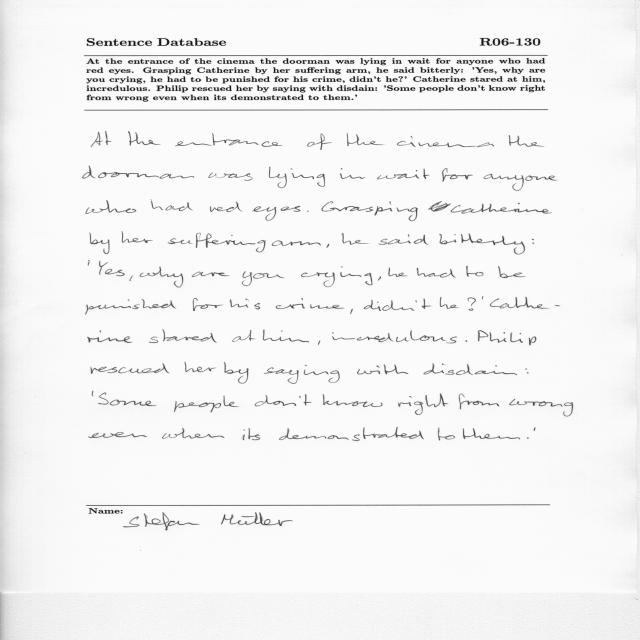word: (279, 427, 424, 441), (321, 202, 418, 222), (168, 233, 266, 252), (440, 234, 525, 255), (332, 331, 457, 344), (428, 201, 552, 214), (301, 267, 373, 288), (175, 133, 282, 147), (83, 166, 195, 179), (264, 365, 340, 384), (86, 299, 176, 315), (484, 174, 557, 191), (269, 167, 325, 188), (424, 363, 517, 375), (174, 396, 239, 413), (398, 393, 448, 415), (509, 399, 573, 416), (397, 136, 494, 147), (478, 330, 536, 346), (140, 267, 183, 288), (149, 330, 217, 343), (364, 298, 431, 311), (91, 363, 169, 374), (323, 394, 383, 407), (490, 297, 560, 308), (98, 393, 156, 406), (276, 298, 344, 309), (252, 206, 301, 221), (86, 200, 136, 214), (254, 394, 312, 406), (162, 428, 225, 439), (242, 271, 285, 286), (459, 394, 499, 410), (463, 429, 520, 440), (263, 330, 309, 343), (88, 330, 133, 343), (377, 169, 430, 180), (379, 234, 429, 245), (224, 362, 249, 384), (357, 365, 408, 375), (128, 131, 161, 146), (347, 133, 384, 146), (150, 200, 193, 211), (509, 135, 544, 147), (208, 172, 253, 181), (442, 168, 473, 181), (307, 134, 332, 150), (416, 268, 456, 278), (90, 233, 109, 254), (99, 261, 125, 276), (193, 298, 223, 311), (210, 201, 242, 212), (121, 232, 153, 243), (89, 432, 147, 438), (498, 266, 525, 278), (91, 131, 111, 147), (184, 363, 216, 373), (342, 233, 368, 245), (229, 299, 260, 309), (272, 240, 321, 246), (232, 330, 255, 342), (340, 168, 365, 179), (440, 297, 459, 309), (438, 428, 455, 441), (242, 428, 260, 440), (466, 266, 484, 277), (192, 272, 230, 277), (389, 267, 408, 277), (467, 297, 476, 311), (130, 275, 134, 281), (525, 369, 529, 374), (378, 276, 381, 281), (350, 309, 353, 314), (326, 244, 329, 248), (532, 239, 534, 244), (88, 261, 90, 266), (92, 392, 94, 397), (318, 341, 320, 345), (534, 428, 536, 431), (466, 340, 468, 342), (527, 437, 529, 439), (482, 297, 483, 300), (307, 210, 308, 212)
